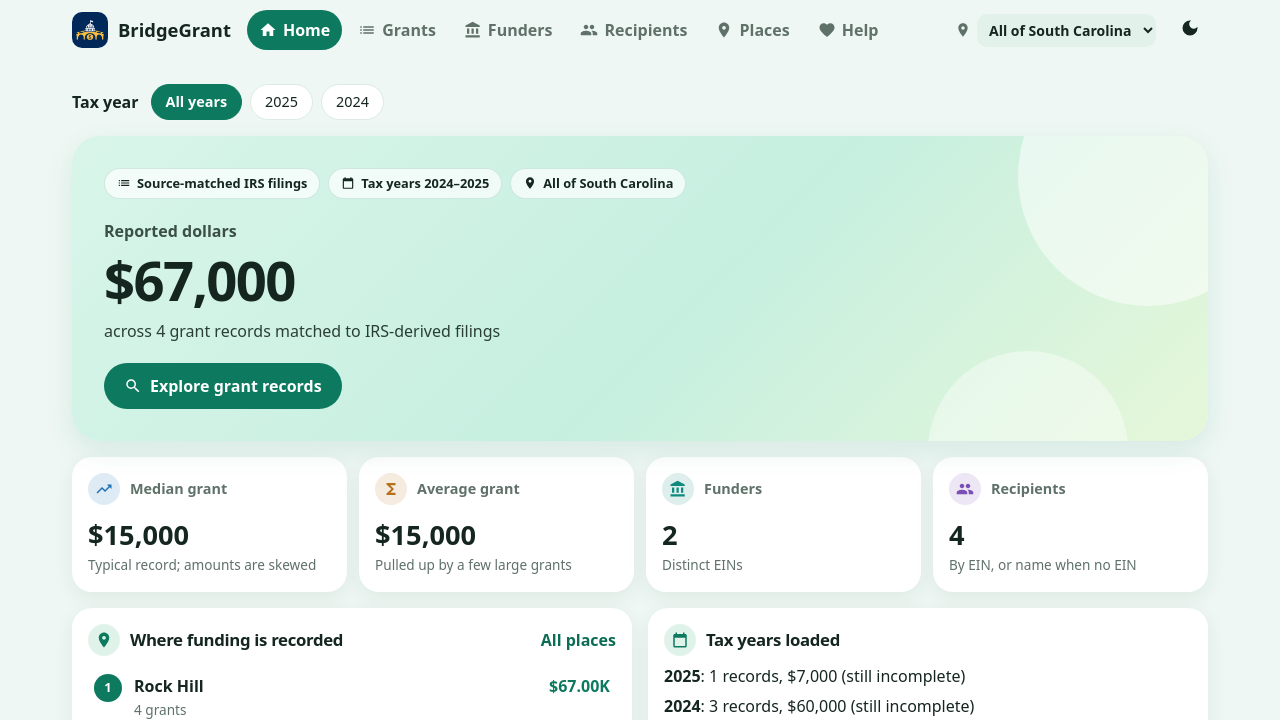
Test case: BridgeGrant website › home tax-year picker switches totals
Check: the heading "$67,000" is shown, box [104, 243, 295, 317]
Click the button "2025" at (282,102), box [250, 84, 313, 120]
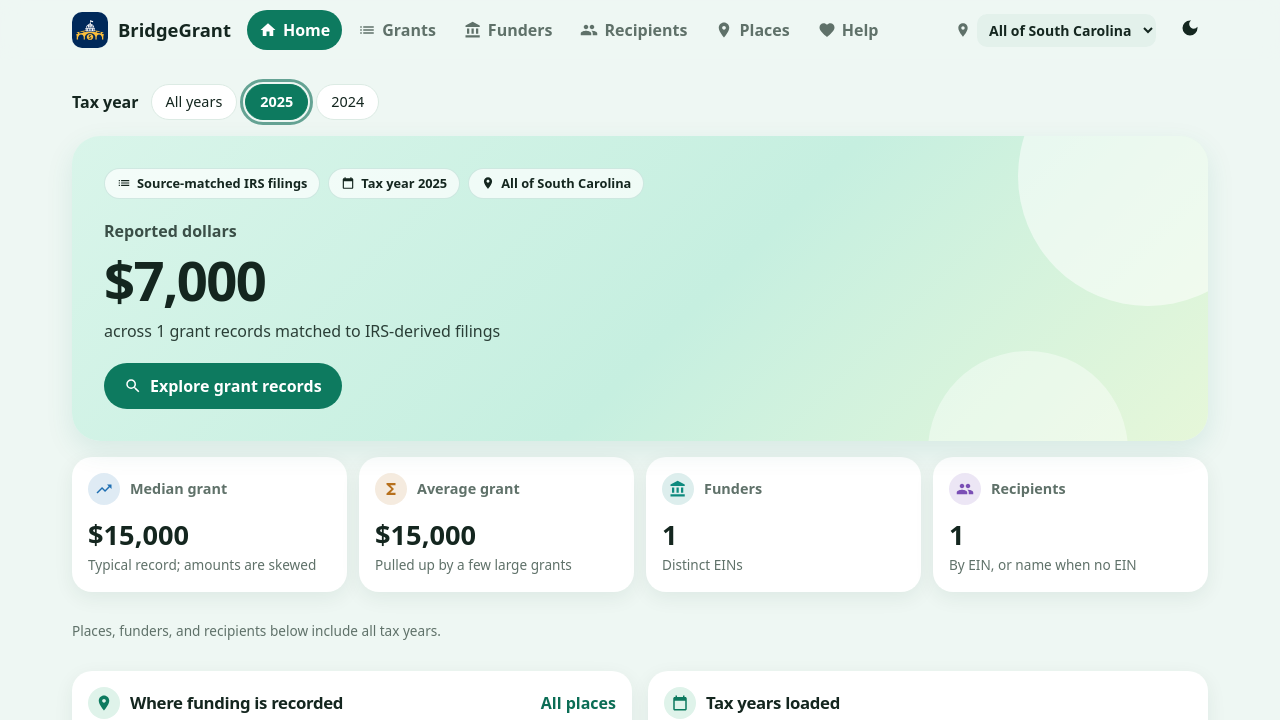
Check: the heading "$7,000" is shown, box [104, 243, 265, 317]
Check: the text "Places, funders, and recipients below include all tax years." is shown, box [72, 621, 441, 640]
